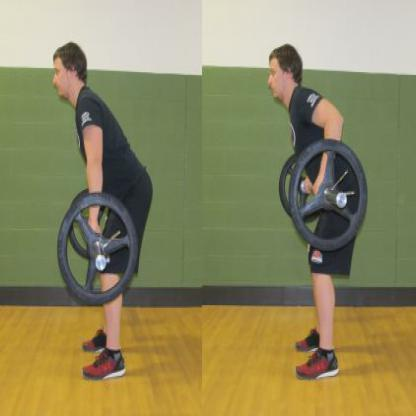barbell: (54, 186, 140, 309), (278, 138, 369, 253)
